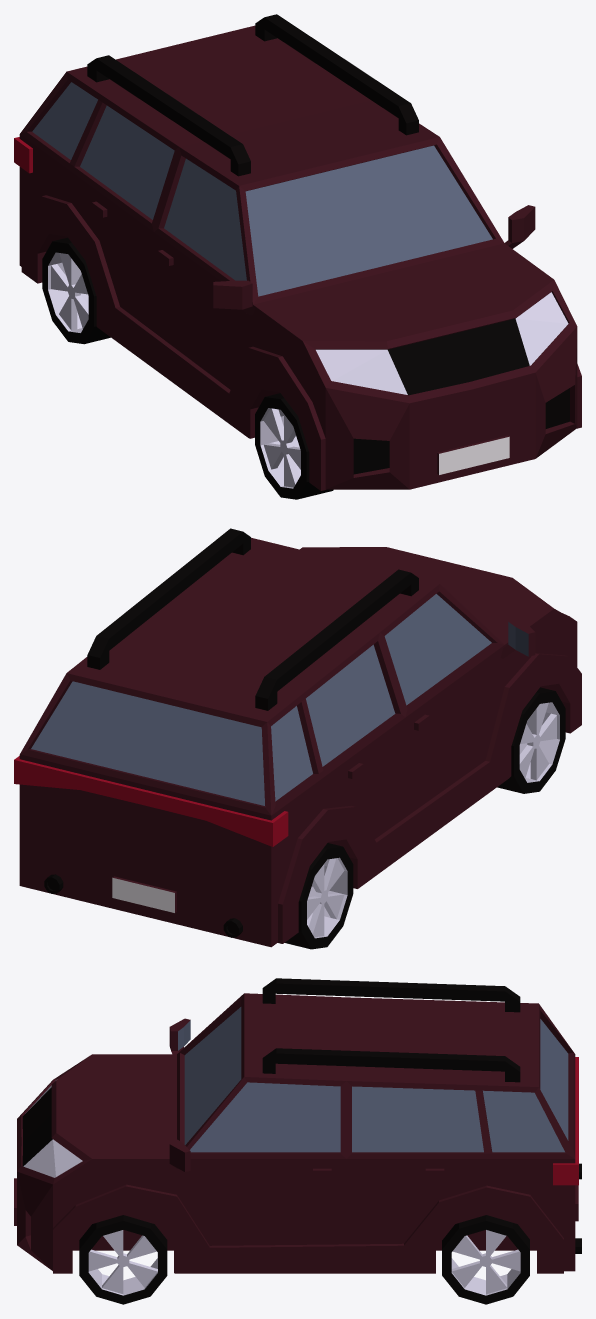
The model's file is SUV.glb.
The picture shows the model from 3 angles, top to bottom: view 1: azimuth 30°, elevation 25°; view 2: azimuth 150°, elevation 25°; view 3: azimuth 270°, elevation 25°; orthographic projection. The views are drawn at different scales.
Parts seen in each view (by area): view 1: SUV, SUV wheel front right, SUV wheel rear right; view 2: SUV, SUV wheel rear right, SUV wheel front right; view 3: SUV, SUV wheel front left, SUV wheel rear left.
Boxes of the visible parts, x1,y1,x2,y2 form: SUV: [14, 14, 581, 490]; SUV wheel front right: [255, 393, 333, 499]; SUV wheel rear right: [42, 237, 110, 344]; SUV: [14, 528, 581, 947]; SUV wheel rear right: [285, 843, 353, 949]; SUV wheel front right: [497, 687, 565, 793]; SUV: [14, 978, 581, 1273]; SUV wheel front left: [79, 1215, 167, 1304]; SUV wheel rear left: [442, 1215, 529, 1304].
Bounding box in the file's own units: 281 × 230 × 504.
